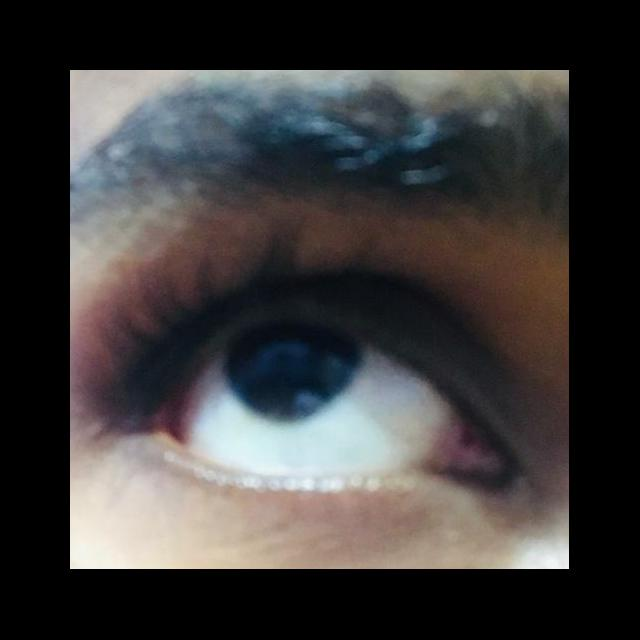eye: (176, 329, 458, 480)
iris: (220, 333, 366, 423)
